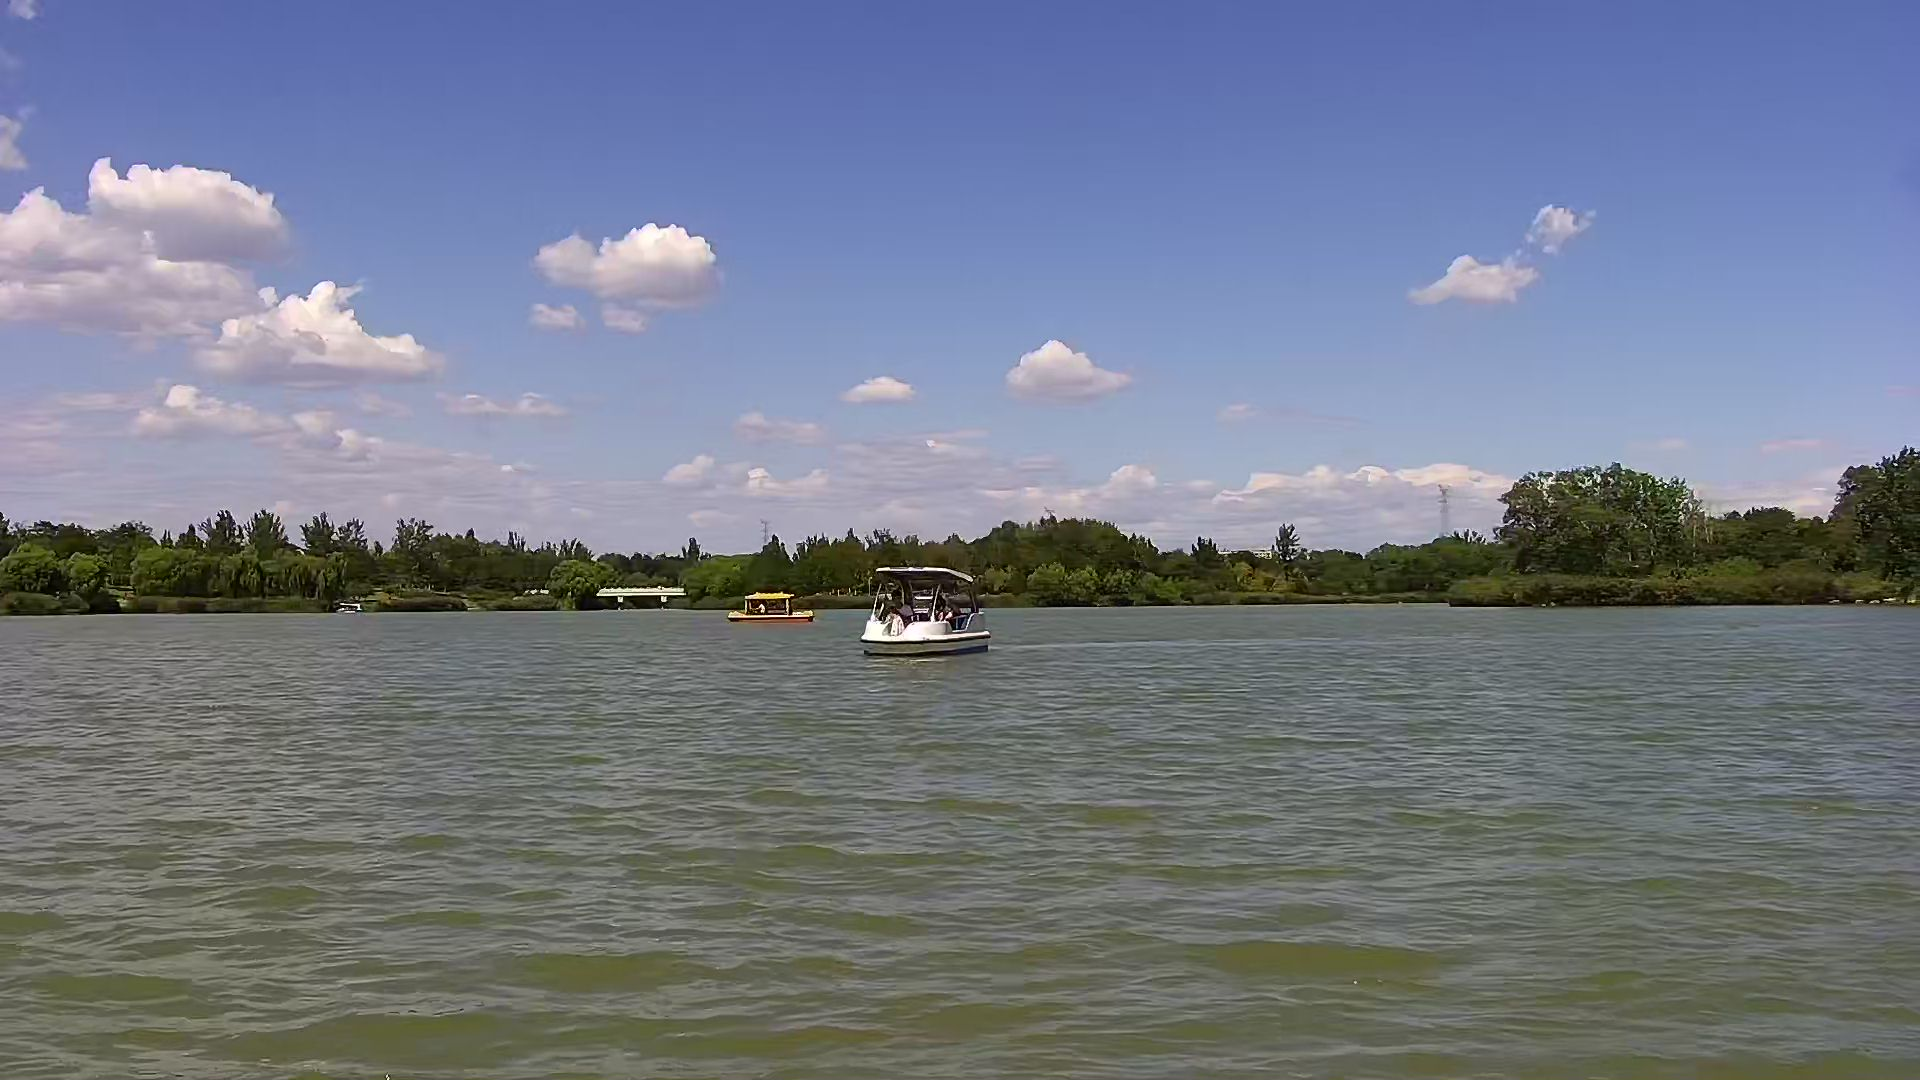boat: (858, 563, 986, 673), (732, 585, 818, 618)
bridge: (599, 585, 682, 615)
